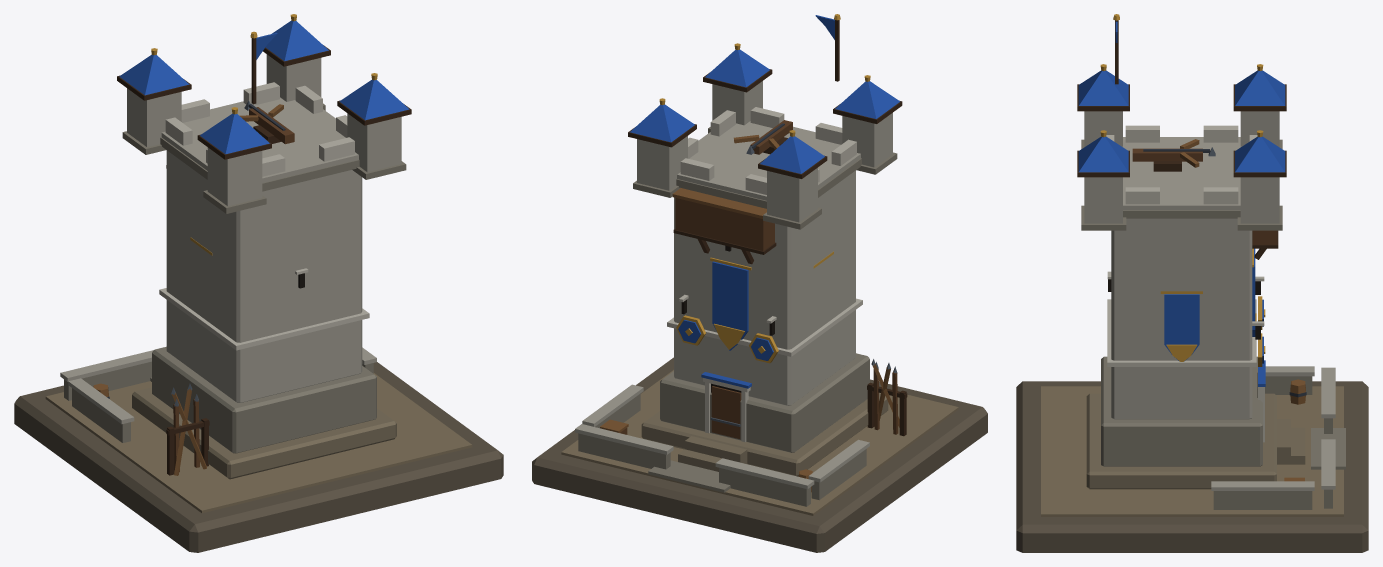
3 renders of one model, left to right at view 1: azimuth 30°, elevation 25°; view 2: azimuth 150°, elevation 25°; view 3: azimuth 270°, elevation 25°, orthographic. The views are drawn at different scales.
Visible parts, largest first — view 1: 箭塔_3星; view 2: 箭塔_3星; view 3: 箭塔_3星.
Part boxes in pixels (x1,y1,x2,y2): 箭塔_3星: (14,14,503,552); 箭塔_3星: (532,14,987,552); 箭塔_3星: (1016,14,1368,552).
Bounding box in the file's own units: 1 × 1.39 × 1.
